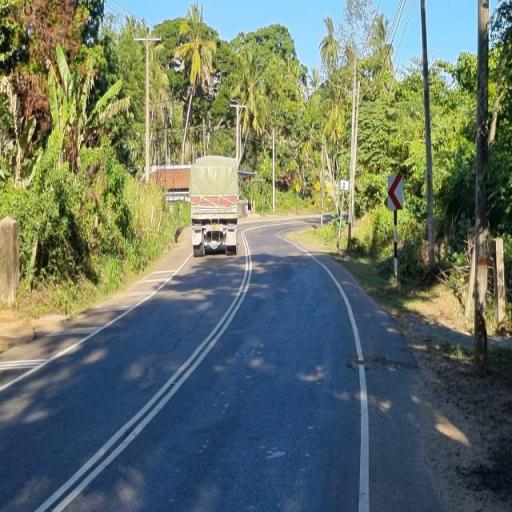double_white_line: (34, 223, 258, 512)
